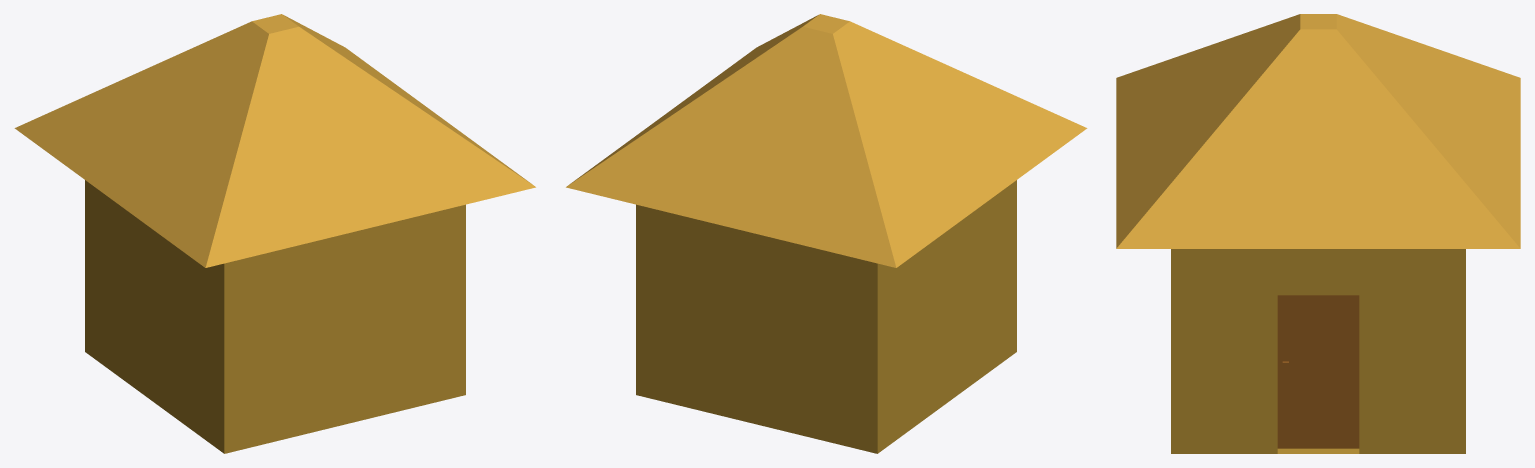
File: lodge.fbx
The picture shows the model from 3 angles, left to right: view 1: azimuth 30°, elevation 25°; view 2: azimuth 150°, elevation 25°; view 3: azimuth 270°, elevation 25°; orthographic projection. The views are drawn at different scales.
Parts seen in each view (by area): view 1: lodge_roof, lodge_main; view 2: lodge_roof, lodge_main; view 3: lodge_roof, lodge_main, lodge_door.
Boxes of the visible parts, x1=… form: lodge_roof: x1=14, y1=14, x2=535, y2=267; lodge_main: x1=85, y1=180, x2=465, y2=453; lodge_roof: x1=566, y1=14, x2=1087, y2=267; lodge_main: x1=636, y1=180, x2=1016, y2=453; lodge_roof: x1=1116, y1=14, x2=1520, y2=248; lodge_main: x1=1171, y1=249, x2=1465, y2=453; lodge_door: x1=1277, y1=295, x2=1359, y2=448.
Bounding box in the file's own units: 822 × 830 × 822.
